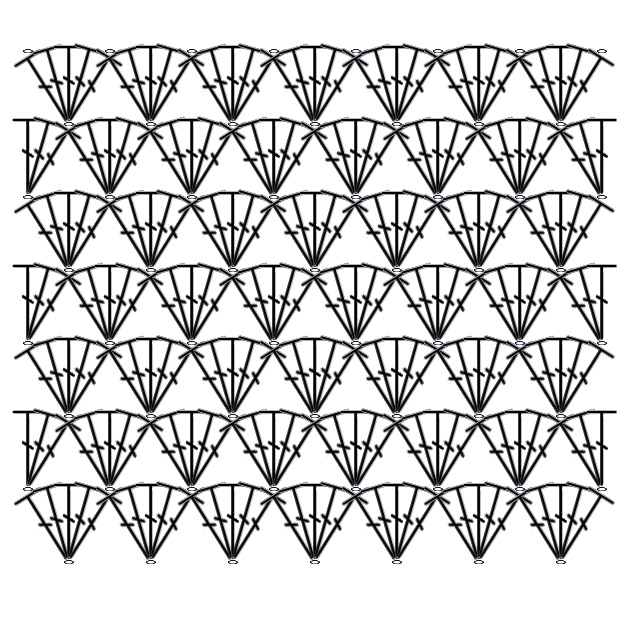chain: (22, 47, 34, 55), (104, 47, 116, 55), (186, 47, 198, 55), (268, 47, 280, 55), (350, 47, 362, 55), (432, 47, 444, 55), (514, 47, 526, 55), (596, 47, 608, 55), (63, 120, 75, 128), (145, 120, 157, 128), (227, 120, 239, 128), (309, 120, 321, 128), (391, 120, 403, 128), (473, 120, 485, 128), (555, 120, 567, 128), (22, 193, 34, 201), (104, 193, 116, 201), (186, 193, 198, 201), (268, 193, 280, 201), (350, 193, 362, 201), (432, 193, 444, 201), (514, 193, 526, 201), (596, 193, 608, 201), (63, 266, 75, 274), (145, 266, 157, 274), (227, 266, 239, 274), (309, 266, 321, 274), (391, 266, 403, 274), (473, 266, 485, 274), (555, 266, 567, 274), (22, 339, 34, 347), (104, 339, 116, 347), (186, 339, 198, 347), (268, 339, 280, 347), (350, 339, 362, 347), (432, 339, 444, 347), (514, 339, 526, 347), (596, 339, 608, 347), (63, 412, 75, 420), (145, 412, 157, 420), (227, 412, 239, 420), (309, 412, 321, 420), (391, 412, 403, 420), (473, 412, 485, 420), (555, 412, 567, 420), (22, 485, 34, 493), (104, 485, 116, 493), (186, 485, 198, 493), (268, 485, 280, 493), (350, 485, 362, 493), (432, 485, 444, 493), (514, 485, 526, 493), (596, 485, 608, 493), (63, 558, 75, 566), (145, 558, 157, 566), (227, 558, 239, 566), (309, 558, 321, 566), (391, 558, 403, 566), (473, 558, 485, 566), (555, 558, 567, 566)
double treble: (11, 45, 83, 133), (55, 45, 127, 133), (93, 45, 165, 133), (137, 45, 209, 133), (175, 45, 247, 133), (219, 45, 291, 133), (257, 45, 329, 133), (301, 45, 373, 133), (339, 45, 411, 133), (383, 45, 455, 133), (421, 45, 493, 133), (465, 45, 537, 133), (503, 45, 575, 133), (547, 45, 619, 133), (14, 118, 86, 206), (52, 118, 124, 206), (96, 118, 168, 206), (134, 118, 206, 206), (178, 118, 250, 206), (216, 118, 288, 206), (260, 118, 332, 206), (298, 118, 370, 206), (342, 118, 414, 206), (380, 118, 452, 206), (424, 118, 496, 206), (462, 118, 534, 206), (506, 118, 578, 206), (544, 118, 616, 206), (11, 191, 83, 279), (55, 191, 127, 279), (93, 191, 165, 279), (137, 191, 209, 279), (175, 191, 247, 279), (219, 191, 291, 279), (257, 191, 329, 279), (301, 191, 373, 279), (339, 191, 411, 279), (383, 191, 455, 279), (421, 191, 493, 279), (465, 191, 537, 279), (503, 191, 575, 279), (547, 191, 619, 279), (14, 264, 86, 352), (52, 264, 124, 352), (96, 264, 168, 352), (134, 264, 206, 352), (178, 264, 250, 352), (216, 264, 288, 352), (260, 264, 332, 352), (298, 264, 370, 352), (342, 264, 414, 352), (380, 264, 452, 352), (424, 264, 496, 352), (462, 264, 534, 352), (506, 264, 578, 352), (544, 264, 616, 352), (11, 337, 83, 425), (55, 337, 127, 425), (93, 337, 165, 425), (137, 337, 209, 425), (175, 337, 247, 425), (219, 337, 291, 425), (257, 337, 329, 425), (301, 337, 373, 425), (339, 337, 411, 425), (383, 337, 455, 425), (421, 337, 493, 425), (465, 337, 537, 425), (503, 337, 575, 425), (547, 337, 619, 425), (14, 410, 86, 498), (52, 410, 124, 498), (96, 410, 168, 498), (134, 410, 206, 498), (178, 410, 250, 498), (216, 410, 288, 498), (260, 410, 332, 498), (298, 410, 370, 498), (342, 410, 414, 498), (380, 410, 452, 498), (424, 410, 496, 498), (462, 410, 534, 498), (506, 410, 578, 498), (544, 410, 616, 498), (11, 483, 83, 571), (55, 483, 127, 571), (93, 483, 165, 571), (137, 483, 209, 571), (175, 483, 247, 571), (219, 483, 291, 571), (257, 483, 329, 571), (301, 483, 373, 571), (339, 483, 411, 571), (383, 483, 455, 571), (421, 483, 493, 571), (465, 483, 537, 571), (503, 483, 575, 571), (547, 483, 619, 571), (30, 40, 85, 129), (53, 40, 108, 129), (112, 40, 167, 129), (135, 40, 190, 129), (194, 40, 249, 129), (217, 40, 272, 129), (276, 40, 331, 129), (299, 40, 354, 129), (358, 40, 413, 129), (381, 40, 436, 129), (440, 40, 495, 129), (463, 40, 518, 129), (522, 40, 577, 129), (545, 40, 600, 129), (12, 113, 67, 202), (71, 113, 126, 202), (94, 113, 149, 202), (153, 113, 208, 202), (176, 113, 231, 202), (235, 113, 290, 202), (258, 113, 313, 202), (317, 113, 372, 202), (340, 113, 395, 202), (399, 113, 454, 202), (422, 113, 477, 202), (481, 113, 536, 202), (504, 113, 559, 202), (563, 113, 618, 202), (30, 186, 85, 275), (53, 186, 108, 275), (112, 186, 167, 275), (135, 186, 190, 275), (194, 186, 249, 275), (217, 186, 272, 275), (276, 186, 331, 275), (299, 186, 354, 275), (358, 186, 413, 275), (381, 186, 436, 275), (440, 186, 495, 275), (463, 186, 518, 275), (522, 186, 577, 275), (545, 186, 600, 275), (12, 259, 67, 348), (71, 259, 126, 348), (94, 259, 149, 348), (153, 259, 208, 348), (176, 259, 231, 348), (235, 259, 290, 348), (258, 259, 313, 348), (317, 259, 372, 348), (340, 259, 395, 348), (399, 259, 454, 348), (422, 259, 477, 348), (481, 259, 536, 348), (504, 259, 559, 348), (563, 259, 618, 348), (30, 332, 85, 421), (53, 332, 108, 421), (112, 332, 167, 421), (135, 332, 190, 421), (194, 332, 249, 421), (217, 332, 272, 421), (276, 332, 331, 421), (299, 332, 354, 421), (358, 332, 413, 421), (381, 332, 436, 421), (440, 332, 495, 421), (463, 332, 518, 421), (522, 332, 577, 421), (545, 332, 600, 421), (12, 405, 67, 494), (71, 405, 126, 494), (94, 405, 149, 494), (153, 405, 208, 494), (176, 405, 231, 494), (235, 405, 290, 494), (258, 405, 313, 494), (317, 405, 372, 494), (340, 405, 395, 494), (399, 405, 454, 494), (422, 405, 477, 494), (481, 405, 536, 494), (504, 405, 559, 494), (563, 405, 618, 494), (30, 478, 85, 567), (53, 478, 108, 567), (112, 478, 167, 567), (135, 478, 190, 567), (194, 478, 249, 567), (217, 478, 272, 567), (276, 478, 331, 567), (299, 478, 354, 567), (358, 478, 413, 567), (381, 478, 436, 567), (440, 478, 495, 567), (463, 478, 518, 567), (522, 478, 577, 567), (545, 478, 600, 567), (52, 42, 86, 124), (134, 42, 168, 124), (216, 42, 250, 124), (298, 42, 332, 124), (380, 42, 414, 124), (462, 42, 496, 124), (544, 42, 578, 124), (11, 115, 45, 197), (93, 115, 127, 197), (175, 115, 209, 197), (257, 115, 291, 197), (339, 115, 373, 197), (421, 115, 455, 197), (503, 115, 537, 197), (585, 115, 619, 197), (52, 188, 86, 270), (134, 188, 168, 270), (216, 188, 250, 270), (298, 188, 332, 270), (380, 188, 414, 270), (462, 188, 496, 270), (544, 188, 578, 270), (11, 261, 45, 343), (93, 261, 127, 343), (175, 261, 209, 343), (257, 261, 291, 343), (339, 261, 373, 343), (421, 261, 455, 343), (503, 261, 537, 343), (585, 261, 619, 343), (52, 334, 86, 416), (134, 334, 168, 416), (216, 334, 250, 416), (298, 334, 332, 416), (380, 334, 414, 416), (462, 334, 496, 416), (544, 334, 578, 416), (11, 407, 45, 489), (93, 407, 127, 489), (175, 407, 209, 489), (257, 407, 291, 489), (339, 407, 373, 489), (421, 407, 455, 489), (503, 407, 537, 489), (585, 407, 619, 489), (52, 480, 86, 562), (134, 480, 168, 562), (216, 480, 250, 562), (298, 480, 332, 562), (380, 480, 414, 562), (462, 480, 496, 562), (544, 480, 578, 562)
